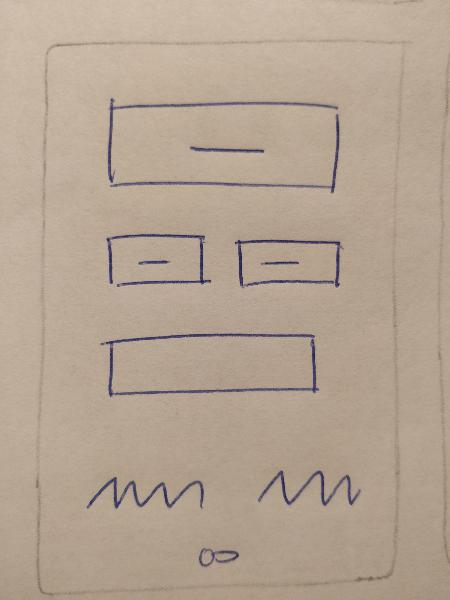button: (95, 88, 352, 203), (230, 230, 349, 297), (100, 226, 215, 293)
switch: (184, 533, 254, 576)
text: (73, 460, 217, 518), (252, 460, 366, 517)
text_input: (93, 322, 329, 406)
